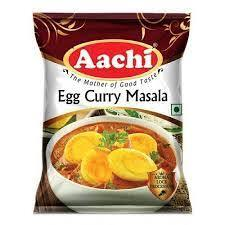VEG: (170, 103, 182, 116)
